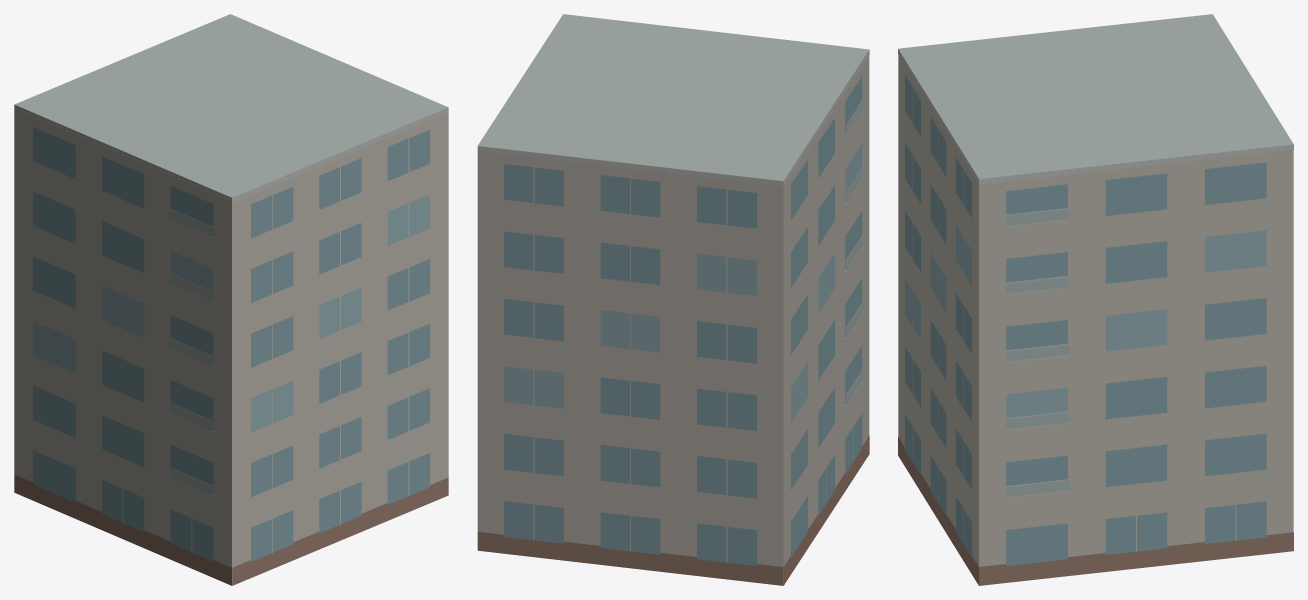
Rendered from survey-upis-32687841.glb.
3 renders of one model, left to right at view 1: azimuth 30°, elevation 25°; view 2: azimuth 150°, elevation 25°; view 3: azimuth 270°, elevation 25°, orthographic. The views are drawn at different scales.
Parts seen in each view (by area): view 1: survey-upis-32687841.tmp; view 2: survey-upis-32687841.tmp; view 3: survey-upis-32687841.tmp.
Part boxes in pixels (left/top/right/bottom): survey-upis-32687841.tmp: left=14, top=14, right=448, bottom=585; survey-upis-32687841.tmp: left=477, top=14, right=869, bottom=585; survey-upis-32687841.tmp: left=898, top=14, right=1293, bottom=585.
Size of the model in its own units: 15.85 by 18.2 by 16.05.
